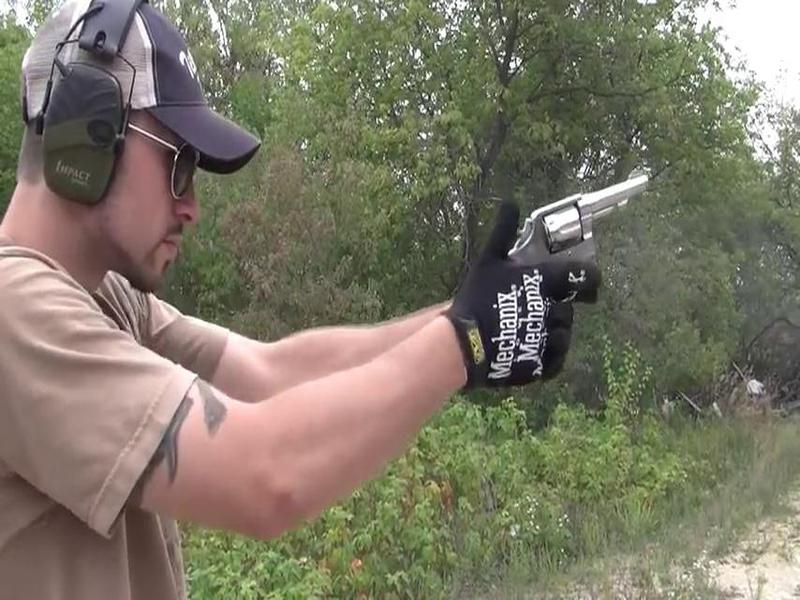Revolver: (503, 152, 668, 312)
